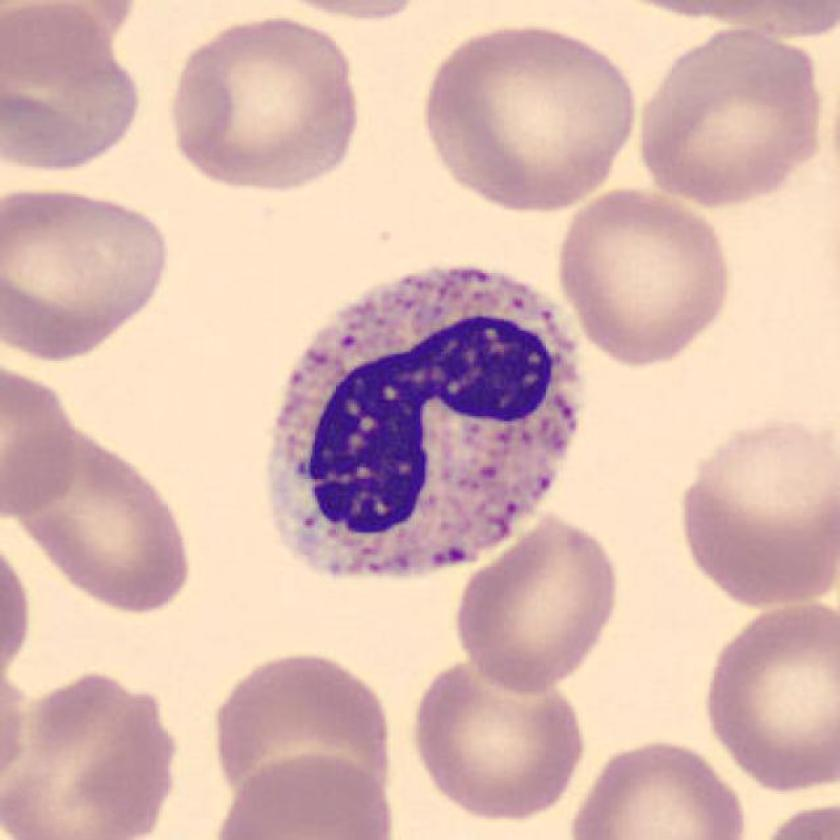neutrophil: (264, 265, 584, 577)
